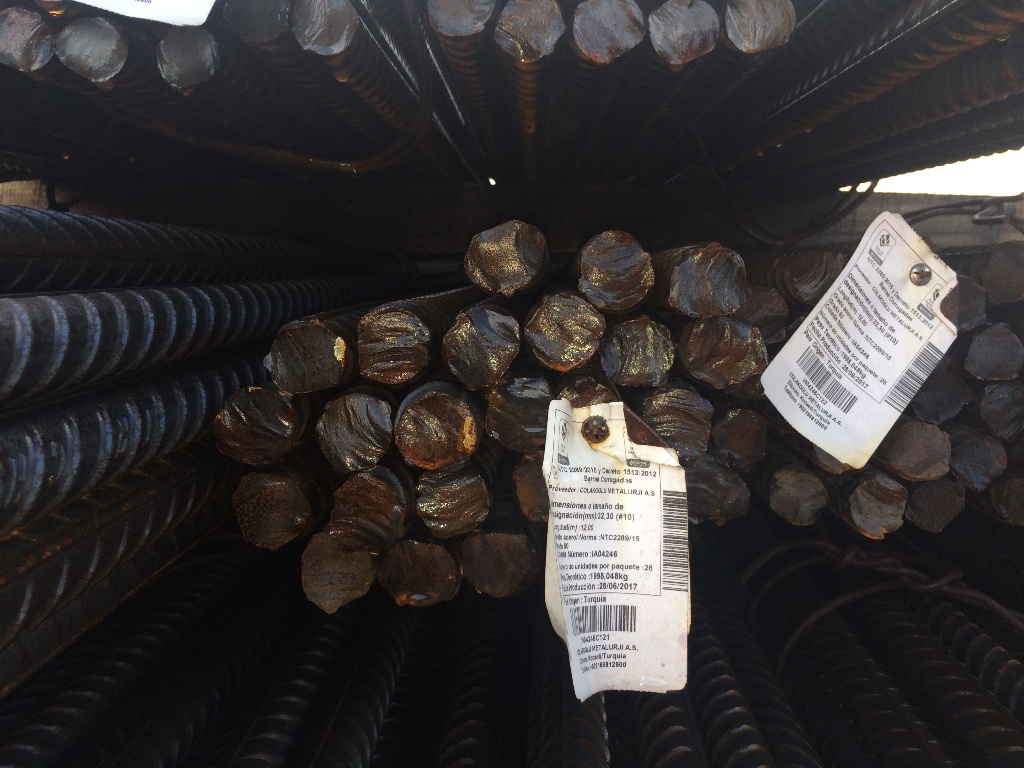dipstick: (441, 308, 522, 392), (463, 219, 551, 295), (215, 385, 295, 467), (579, 230, 656, 314), (678, 319, 770, 388), (397, 392, 479, 469), (316, 392, 393, 474), (232, 472, 312, 550), (525, 294, 605, 372), (300, 533, 375, 615), (669, 243, 749, 316), (357, 307, 431, 384), (264, 321, 345, 391), (638, 389, 713, 464), (379, 539, 462, 606), (417, 468, 491, 539), (601, 317, 675, 387), (647, 2, 722, 69), (463, 532, 538, 599), (487, 378, 554, 449), (57, 17, 130, 82), (574, 1, 645, 63), (494, 1, 565, 63), (686, 461, 749, 526), (848, 476, 909, 541), (290, 1, 360, 55), (726, 1, 797, 53), (157, 26, 215, 88), (890, 422, 951, 480), (1, 7, 55, 71), (767, 470, 828, 526), (907, 479, 966, 535), (953, 433, 1008, 491), (965, 325, 1023, 379), (913, 365, 966, 424), (714, 410, 768, 467), (222, 1, 289, 41), (417, 1, 494, 35), (983, 381, 1024, 442), (514, 449, 548, 522), (749, 285, 789, 337), (957, 273, 987, 331)
